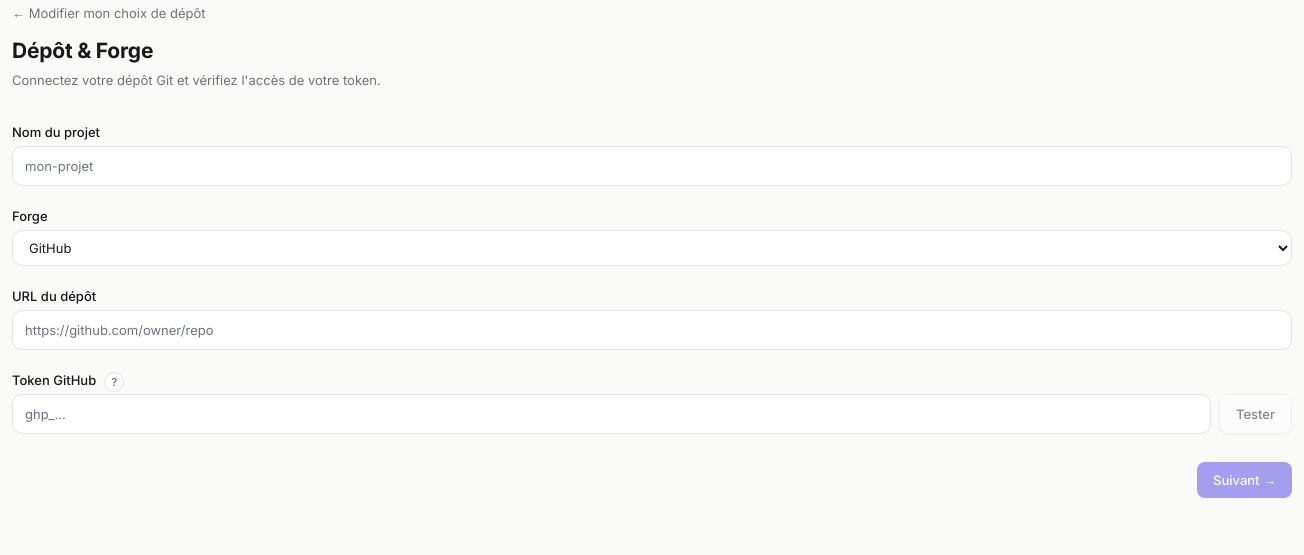
Test: RepoPage (step 1) › shows error message on failed forge validation
In the password field with placeholder "ghp_…": (611, 414) [12, 394, 1211, 434], type "bad-token"
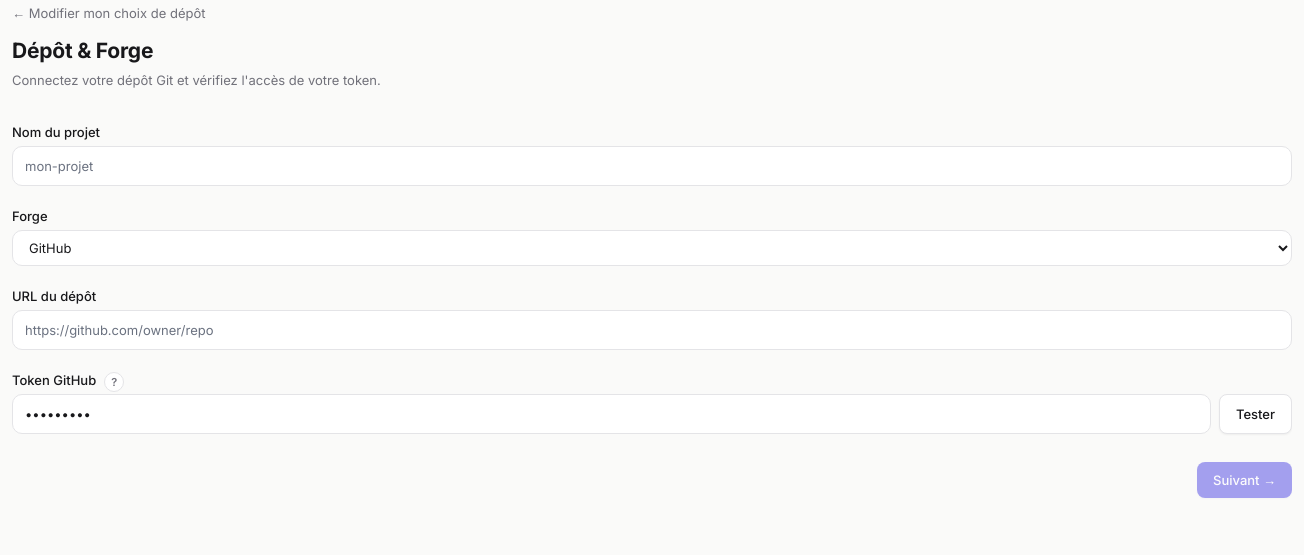
Click the button "Tester": (1255, 414) [1219, 394, 1292, 434]
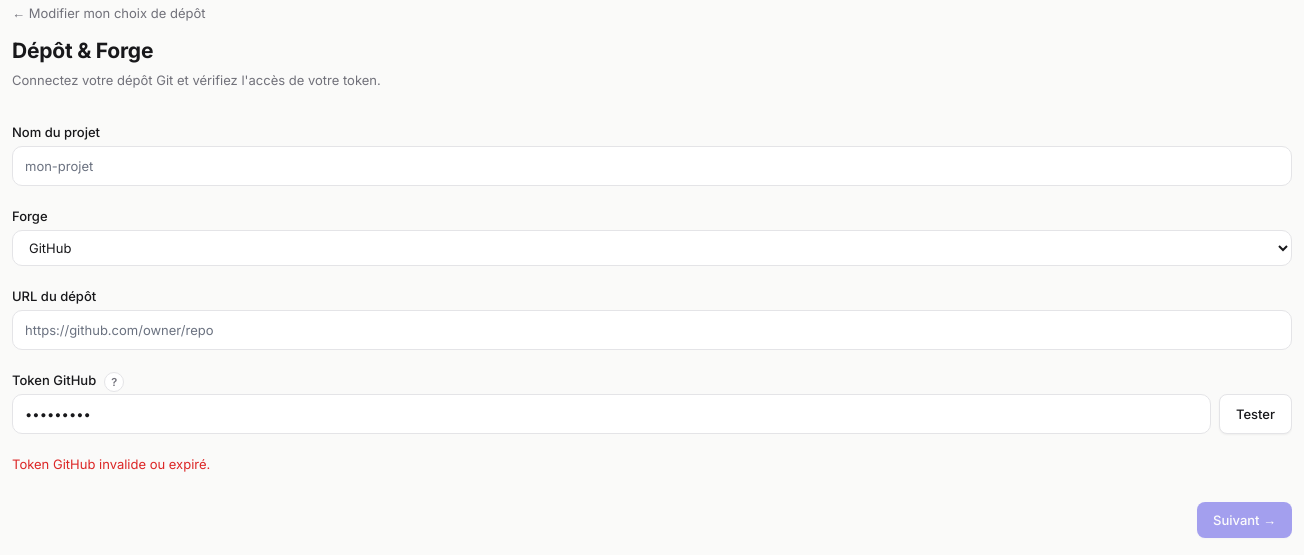
Expected: the button "Suivant →" is disabled, [1197, 502, 1292, 538]
Now the text "Token GitHub invalide ou expiré." is shown, box [12, 456, 210, 472]
